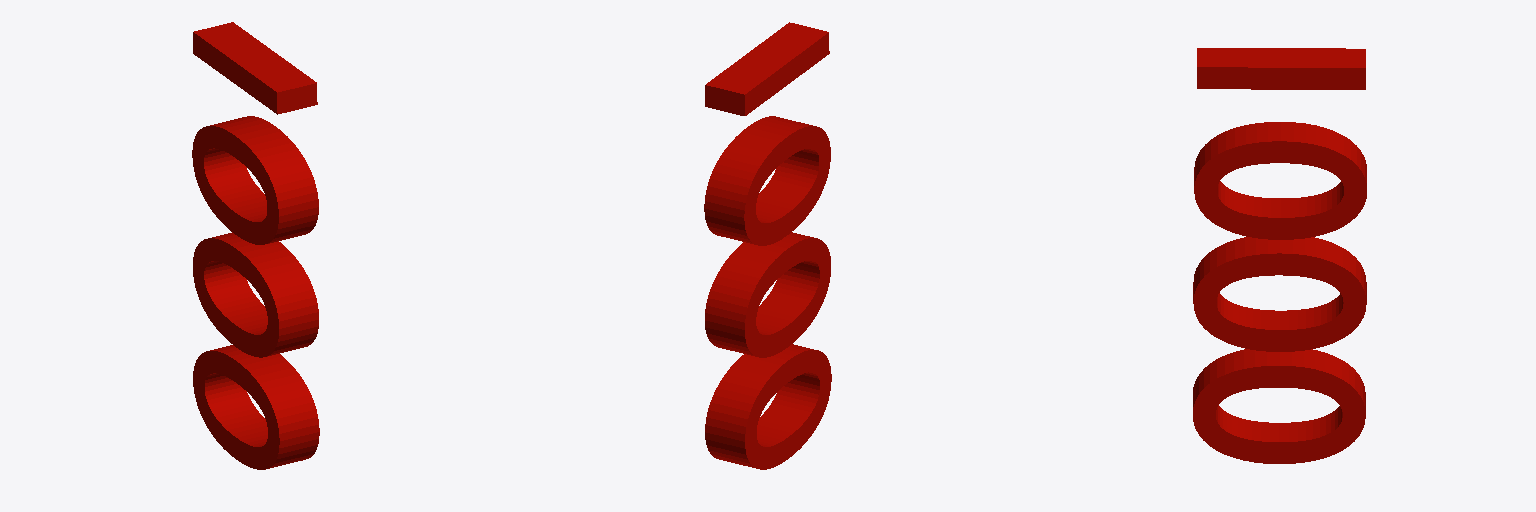
File: artifact_1000.obj
3 renders of one model, left to right at view 1: azimuth 30°, elevation 25°; view 2: azimuth 150°, elevation 25°; view 3: azimuth 270°, elevation 25°, orthographic.
Visible parts, largest first — view 1: Text.001_Mesh.001; view 2: Text.001_Mesh.001; view 3: Text.001_Mesh.001.
Boxes of the visible parts, x1=… form: Text.001_Mesh.001: x1=192, y1=22, x2=319, y2=469; Text.001_Mesh.001: x1=704, y1=22, x2=831, y2=469; Text.001_Mesh.001: x1=1193, y1=48, x2=1366, y2=463.
Bounding box in the file's own units: 0.3624 × 3.44 × 1.37.